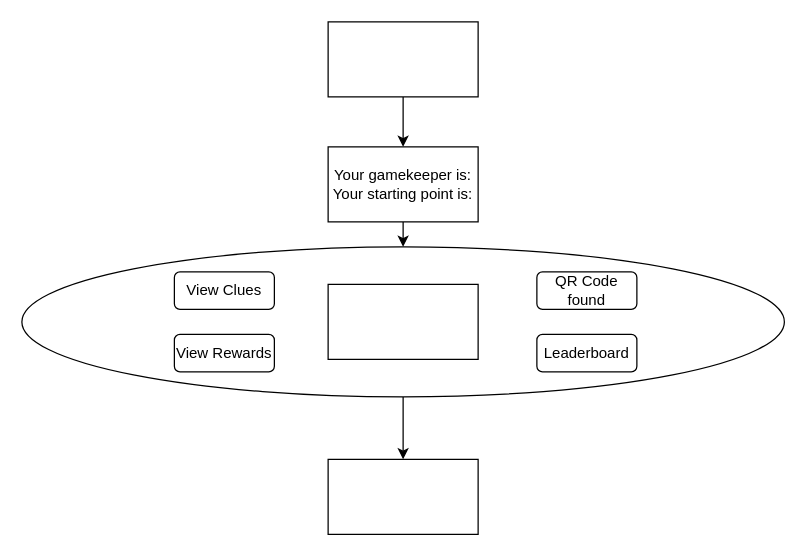
The diagram is 806 pixels wide and 556 high, and some of its shapes have lost their labels. The shapes that lost their labels are listed below. From the top down, each one's centre as x and y in pixels, then its label:
At point 402,59: "Login Page".
At point 402,321: "Map with waypoints".
At point 402,496: "Winning Screen".
